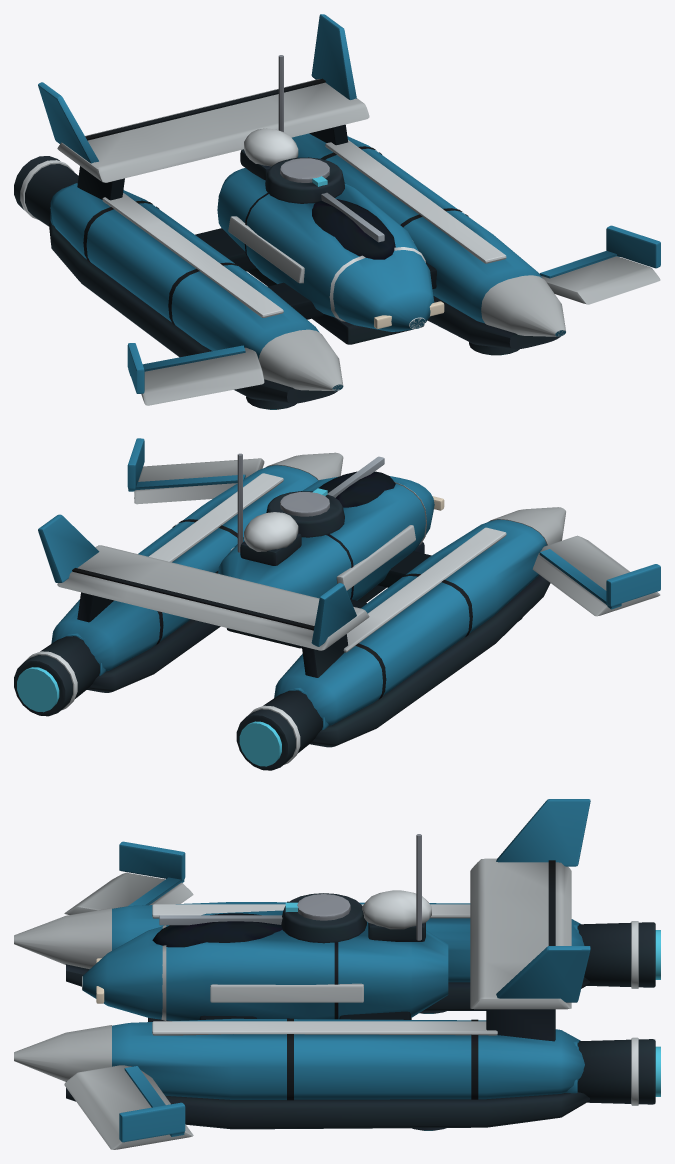
The model's file is ex_skiff_3.glb.
3 renders of one model, top to bottom at view 1: azimuth 30°, elevation 25°; view 2: azimuth 150°, elevation 25°; view 3: azimuth 270°, elevation 25°, orthographic. The views are drawn at different scales.
Parts seen in each view (by area): view 1: body; view 2: body; view 3: body.
Boxes of the visible parts, box(x1,y1,x2,y2) form: body: box(14, 14, 660, 409); body: box(14, 438, 660, 770); body: box(14, 799, 660, 1149).
Size of the model in its own units: 6.49 by 2.63 by 6.46.
